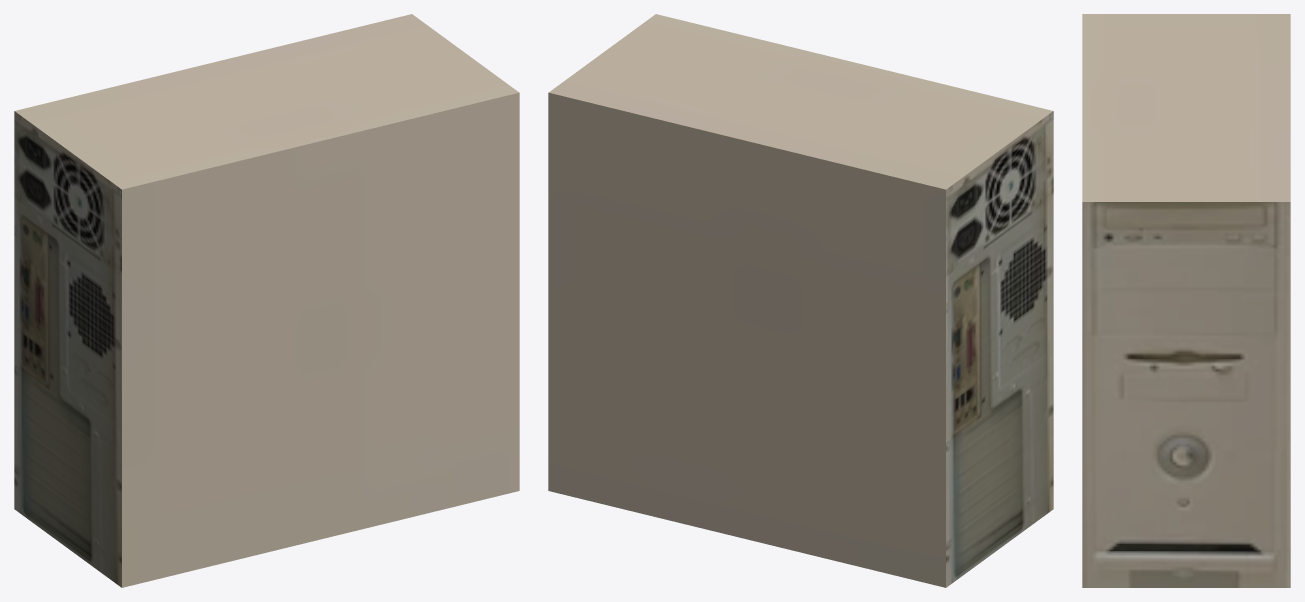
File: pcTower.fbx
The picture shows the model from 3 angles, left to right: view 1: azimuth 30°, elevation 25°; view 2: azimuth 150°, elevation 25°; view 3: azimuth 270°, elevation 25°; orthographic projection. The views are drawn at different scales.
Parts seen in each view (by area): view 1: Cube; view 2: Cube; view 3: Cube.
Boxes of the visible parts, bbox=[...] form: Cube: bbox=[14, 14, 519, 587]; Cube: bbox=[548, 14, 1053, 587]; Cube: bbox=[1082, 14, 1290, 587].
Size of the model in its own units: 47 by 45 by 22.
